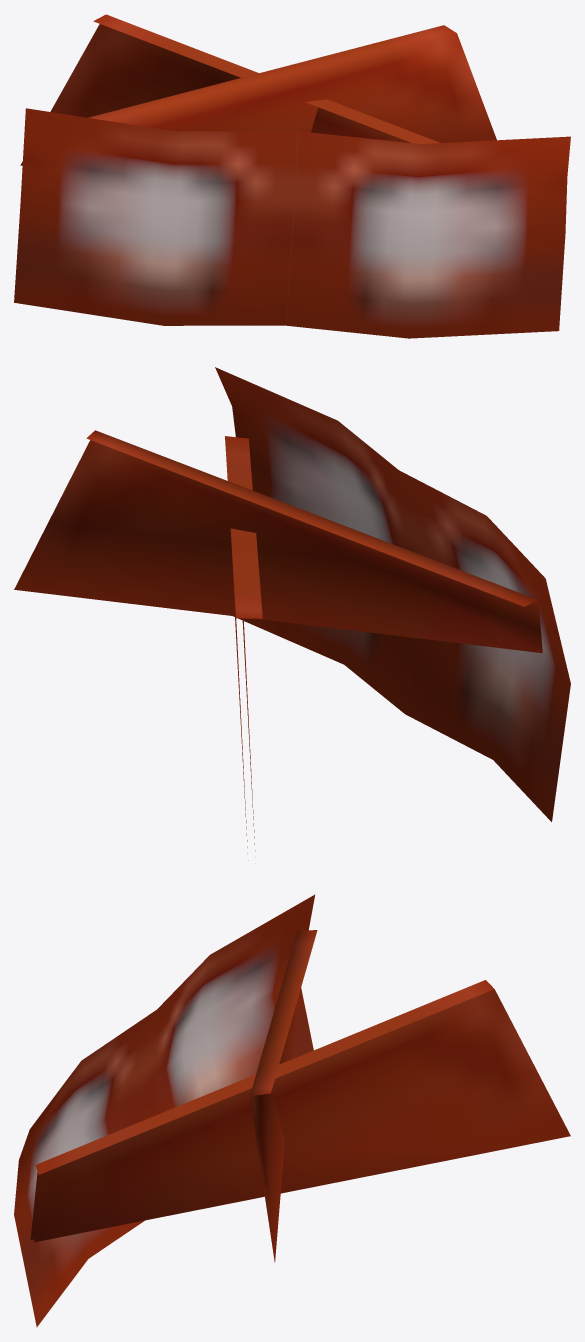
File: fg_glass_out.dae
The picture shows the model from 3 angles, top to bottom: view 1: azimuth 30°, elevation 25°; view 2: azimuth 150°, elevation 25°; view 3: azimuth 270°, elevation 25°; orthographic projection. The views are drawn at different scales.
Visible parts, largest first — view 1: fg_glass_out; view 2: fg_glass_out; view 3: fg_glass_out.
Part boxes in pixels (left/top/right/bottom): fg_glass_out: left=14, top=14, right=570, bottom=338; fg_glass_out: left=14, top=367, right=570, bottom=860; fg_glass_out: left=14, top=894, right=570, bottom=1327.
Bounding box in the file's own units: 15.64 × 7.17 × 15.55.
1 material, 1 textured.
